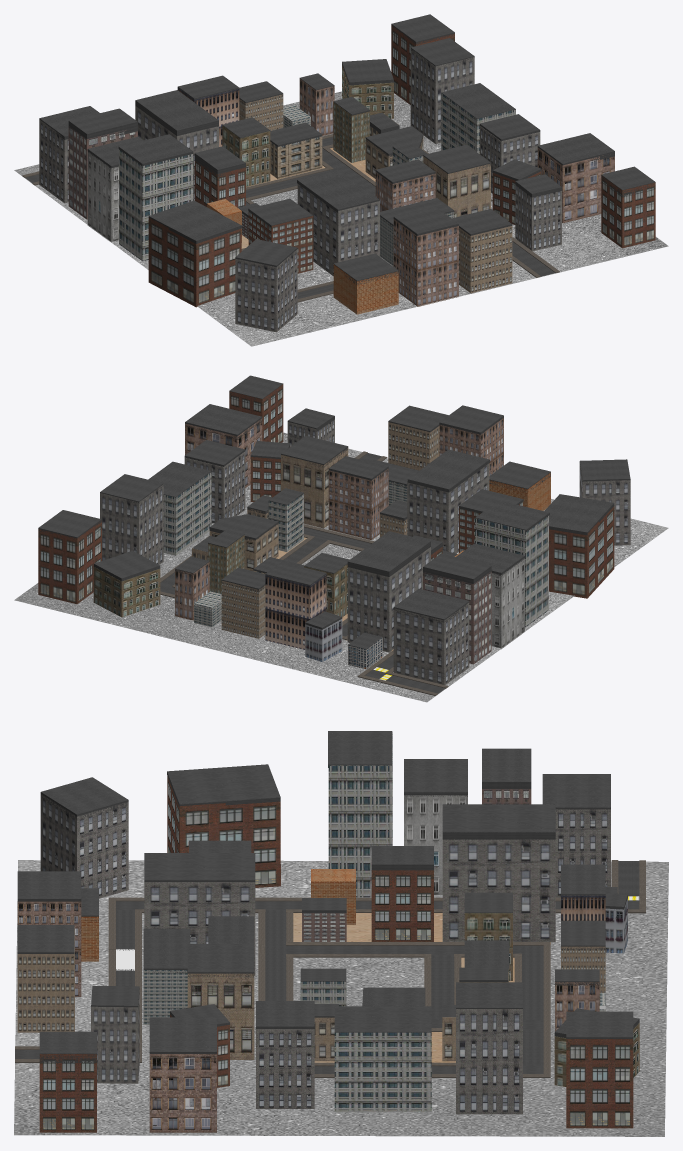
File: Project.glb
The picture shows the model from 3 angles, top to bottom: view 1: azimuth 30°, elevation 25°; view 2: azimuth 150°, elevation 25°; view 3: azimuth 270°, elevation 25°; orthographic projection. The views are drawn at different scales.
Parts seen in each view (by area): view 1: MeshInstance3D, Cube 222, Cube 221, Cube 212, Cube 209, Cube 233, Cube 195, Cube 214, Cube 211, Cube 215, Cube 217, Cube 230 (+52 smaller); view 2: MeshInstance3D, Cube 218, Cube 204, Cube 222, Cube 196, Cube 195, Cube 221, Cube 209, Cube 231, Cube 201, Cube 194, Cube 219 (+50 smaller); view 3: MeshInstance3D, Cube 204, Cube 194, Cube 195, Cube 221, Cube 233, Cube 196, Cube 222, Cube 215, Cube 209, Cube 1, Cube 211 (+55 smaller).
Boxes of the visible parts, bbox=[...] form: MeshInstance3D: bbox=[14, 91, 668, 346]; Cube 222: bbox=[148, 217, 241, 307]; Cube 221: bbox=[119, 149, 193, 261]; Cube 212: bbox=[393, 219, 458, 306]; Cube 209: bbox=[297, 184, 379, 275]; Cube 233: bbox=[235, 249, 297, 332]; Cube 195: bbox=[410, 48, 474, 143]; Cube 214: bbox=[601, 176, 655, 248]; Cube 211: bbox=[459, 226, 512, 293]; Cube 215: bbox=[537, 147, 614, 223]; Cube 217: bbox=[515, 185, 561, 251]; Cube 230: bbox=[423, 156, 490, 217]; MeshInstance3D: bbox=[14, 432, 668, 702]; Cube 218: bbox=[393, 603, 469, 684]; Cube 204: bbox=[347, 547, 430, 652]; Cube 222: bbox=[549, 506, 614, 598]; Cube 196: bbox=[38, 520, 101, 604]; Cube 195: bbox=[100, 484, 163, 564]; Cube 221: bbox=[475, 516, 548, 627]; Cube 209: bbox=[407, 463, 489, 553]; Cube 231: bbox=[328, 469, 388, 539]; Cube 201: bbox=[265, 574, 326, 649]; Cube 194: bbox=[163, 472, 211, 555]; Cube 219: bbox=[423, 571, 491, 664]; MeshInstance3D: bbox=[14, 860, 668, 1136]; Cube 204: bbox=[442, 839, 555, 942]; Cube 194: bbox=[334, 1032, 431, 1112]; Cube 195: bbox=[456, 1009, 522, 1114]; Cube 221: bbox=[328, 732, 392, 897]; Cube 233: bbox=[40, 794, 128, 898]; Cube 196: bbox=[566, 1039, 633, 1128]; Cube 222: bbox=[167, 776, 280, 887]; Cube 215: bbox=[149, 1054, 216, 1132]; Cube 209: bbox=[144, 882, 255, 975]; Cube 1: bbox=[256, 1029, 314, 1108]; Cube 211: bbox=[17, 927, 74, 1032].
Bounding box in the file's own units: 522 × 115 × 509.
Materials: 353 (350 with a texture image).
